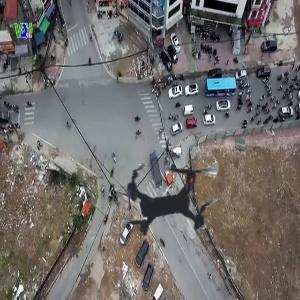drone: (88, 115, 252, 279)
